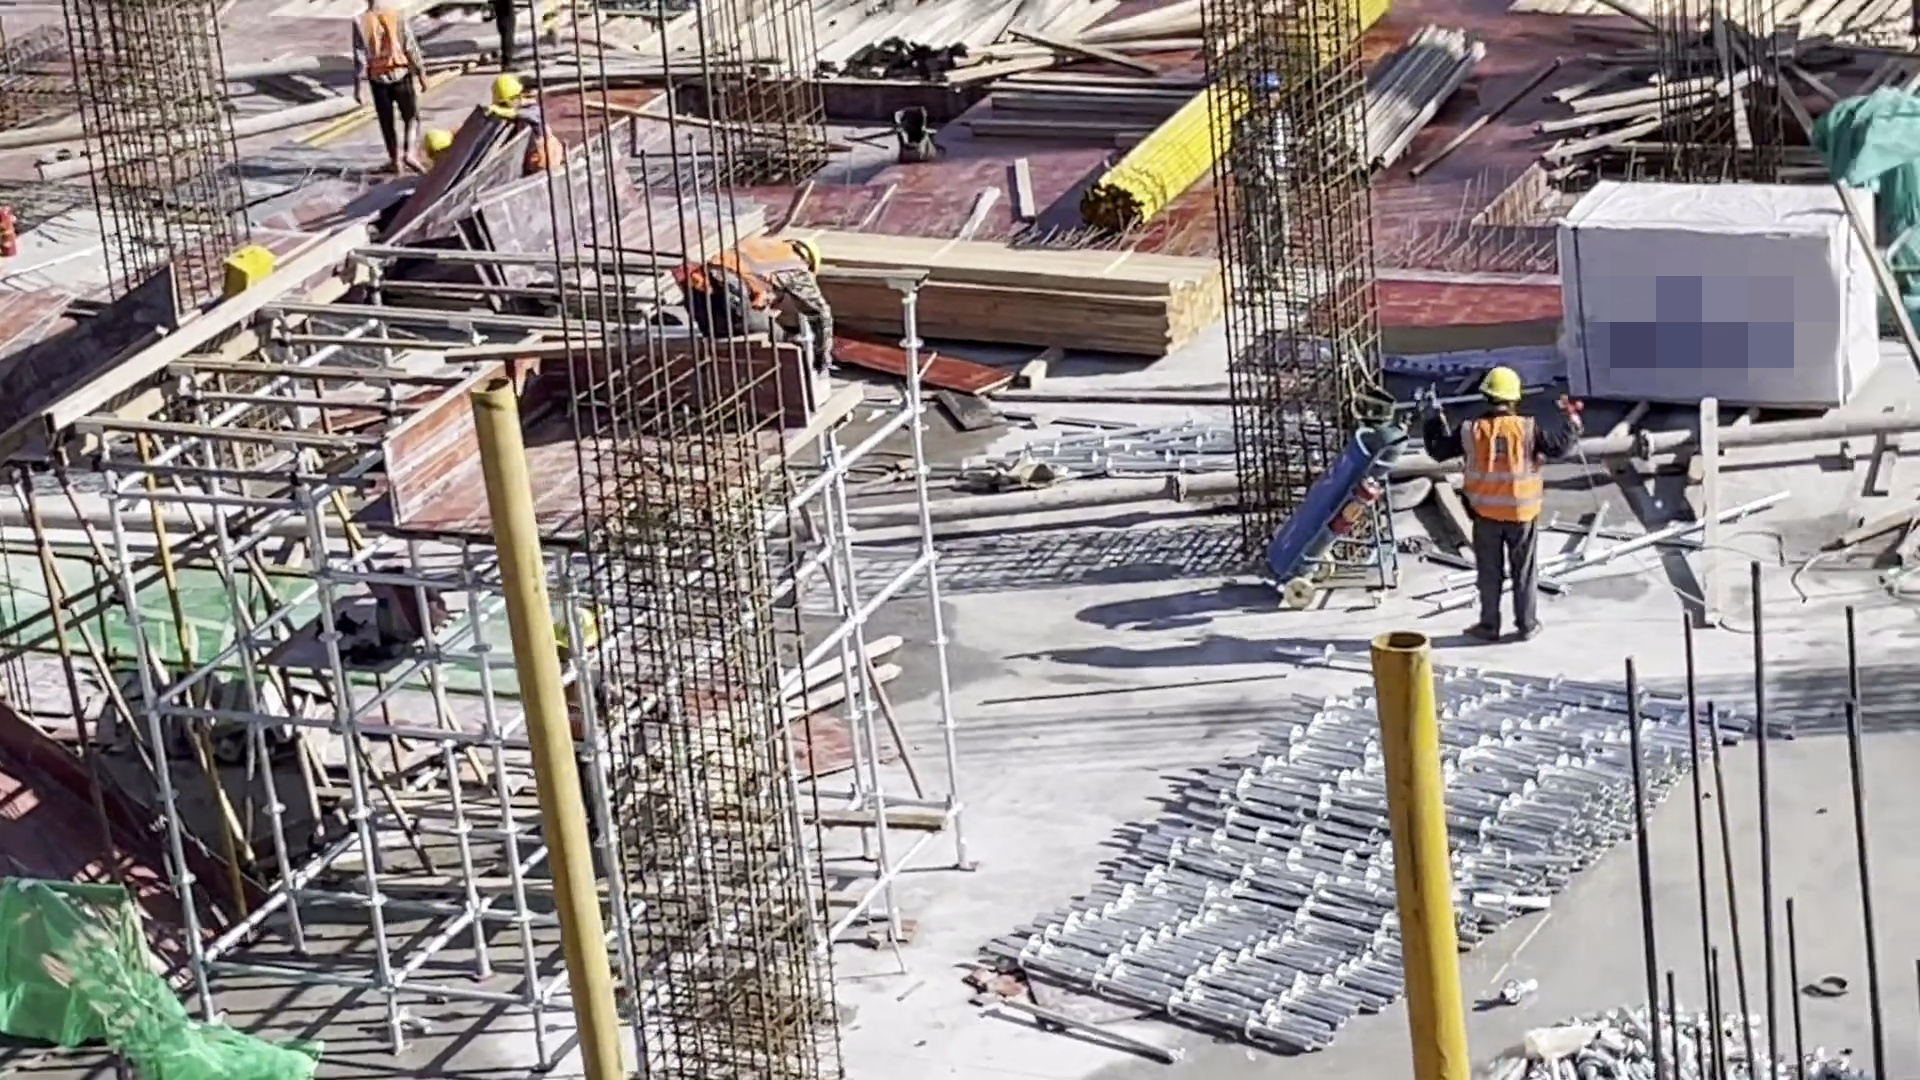helmet: (558, 609, 595, 660), (1478, 366, 1524, 403), (802, 234, 825, 272), (492, 75, 522, 103)
person: (1455, 368, 1593, 664), (678, 220, 845, 378), (348, 1, 438, 180), (489, 75, 566, 195)
vest: (1463, 413, 1550, 530), (678, 239, 800, 317), (357, 10, 410, 87)
